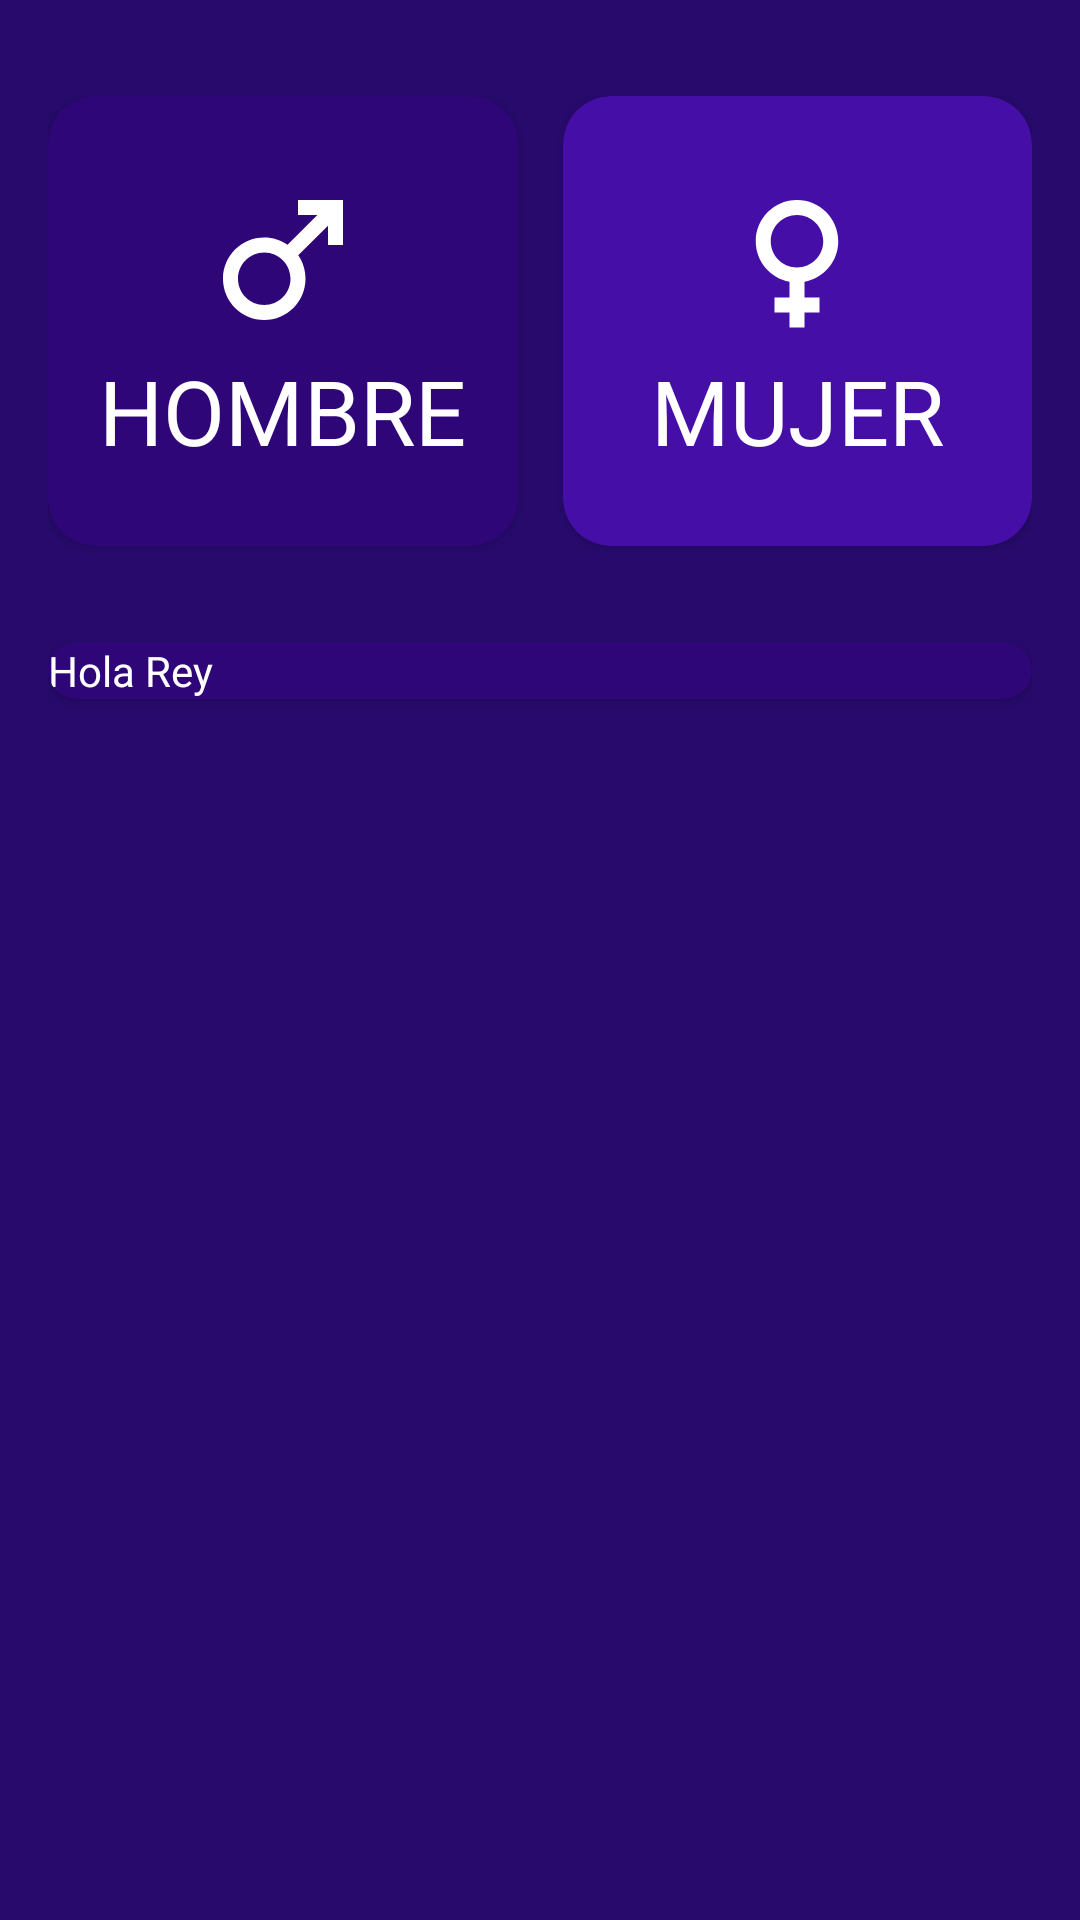

Icons on this 1080px×1920px Android screen, each with its box as (x1, y1, x2, y2):
female: (755, 200, 839, 328)
male: (223, 200, 343, 320)
